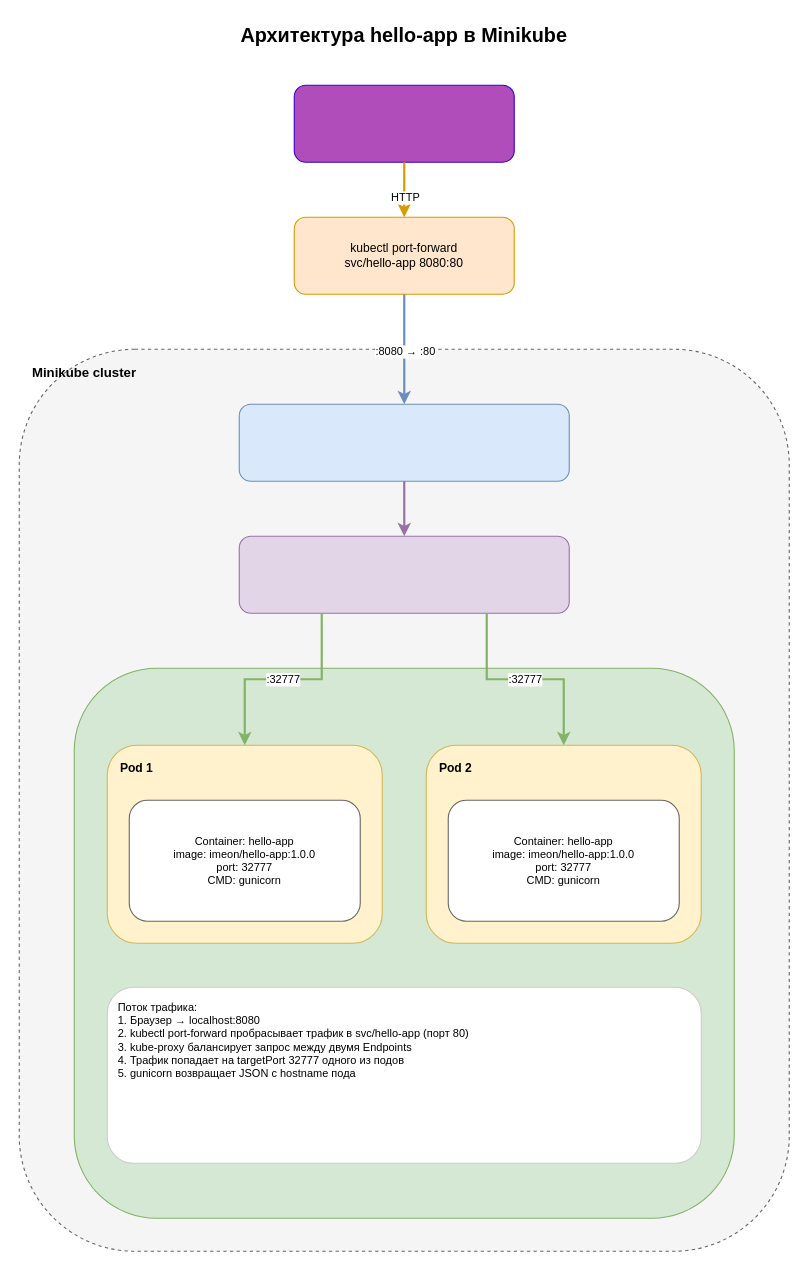
Some shapes in this 809 by 1271 pixel diagram are drawn without their labels. The box of each missing label's shape, as (x1, y1, x2, y2) in pixels:
Deployment: hello-app • replicas: 2 • selector: app=hello-app: (73, 667, 734, 1218)
Endpoints (kube-proxy): 172.17.0.x:32777 • 172.17.0.y:32777: (238, 535, 569, 613)
Service: hello-app type: ClusterIP port: 80 → targetPort: 32777: (238, 403, 569, 481)
Пользователь (браузер / curl) localhost:8080: (293, 84, 514, 162)
